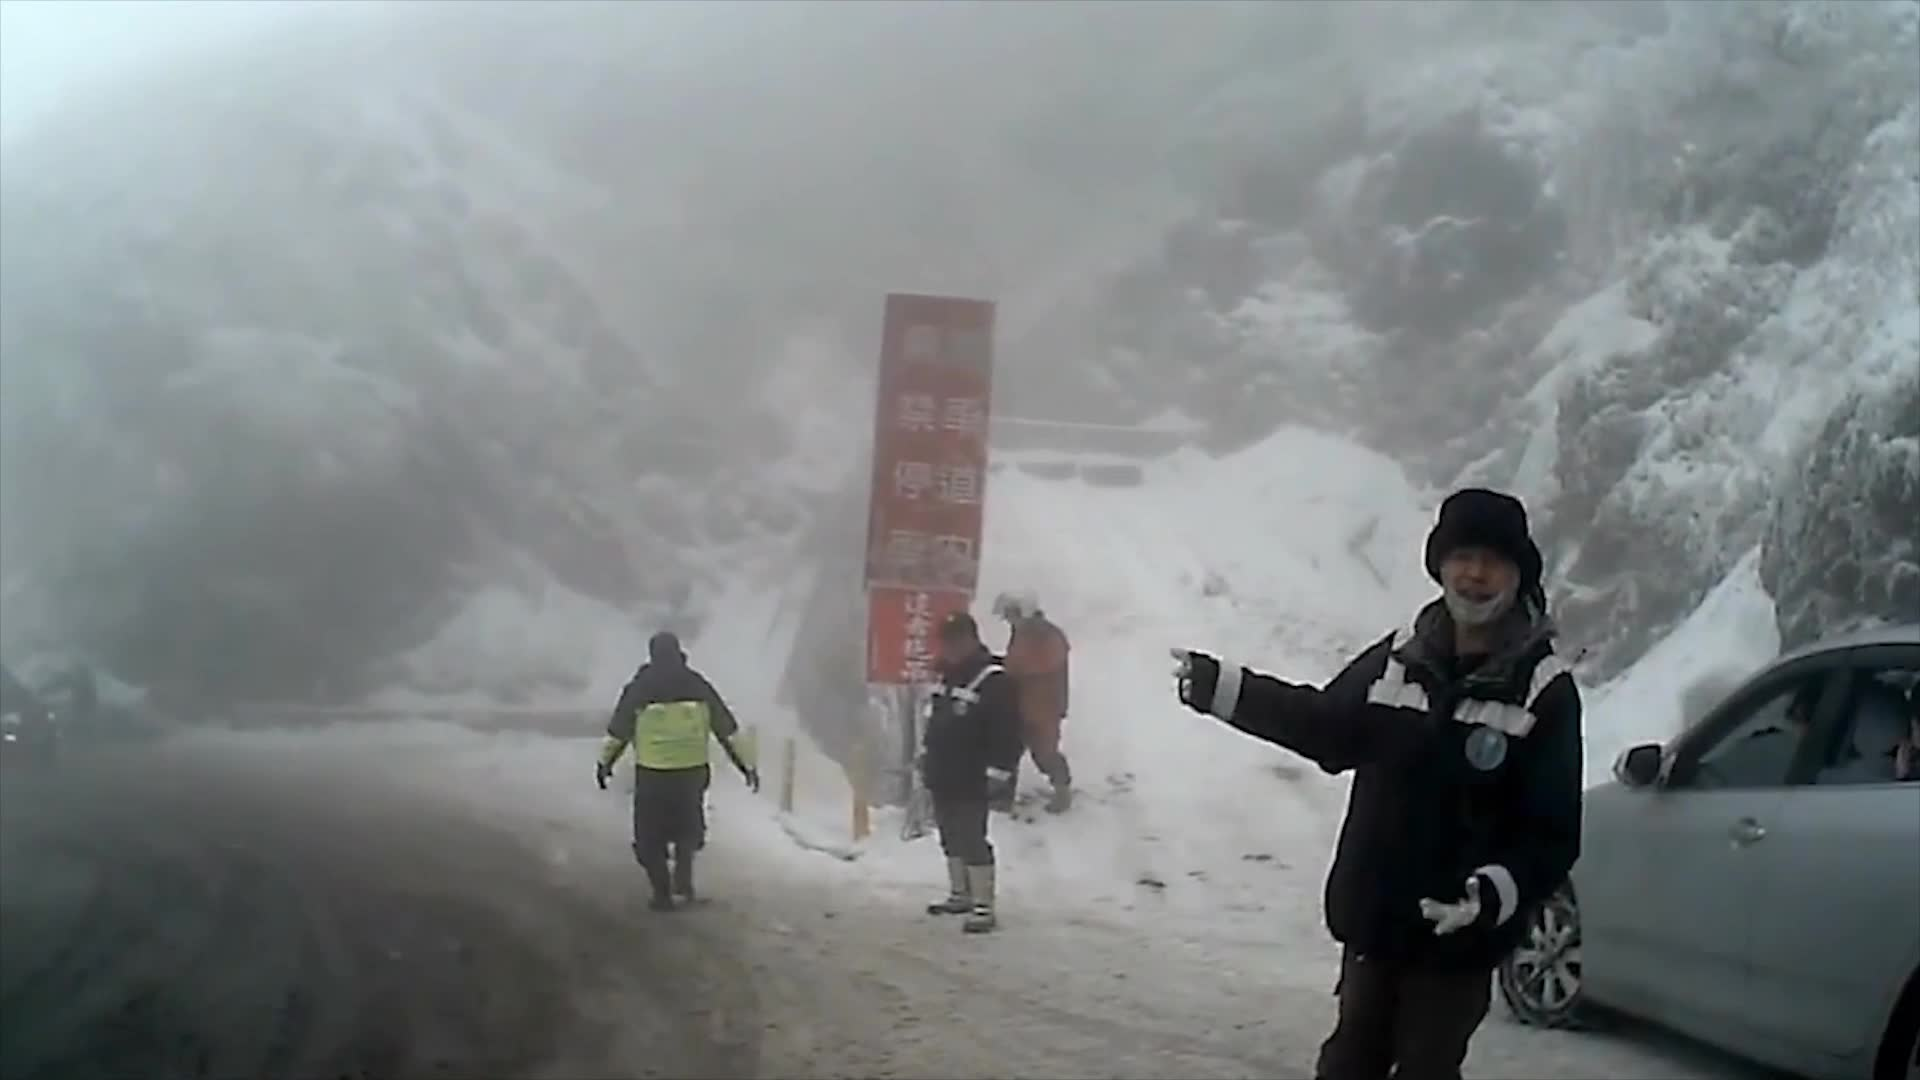pedestrian: (1165, 481, 1588, 1078), (601, 631, 760, 905), (923, 608, 1029, 932), (997, 578, 1088, 814)
vehicle: (1471, 627, 1918, 1079)
